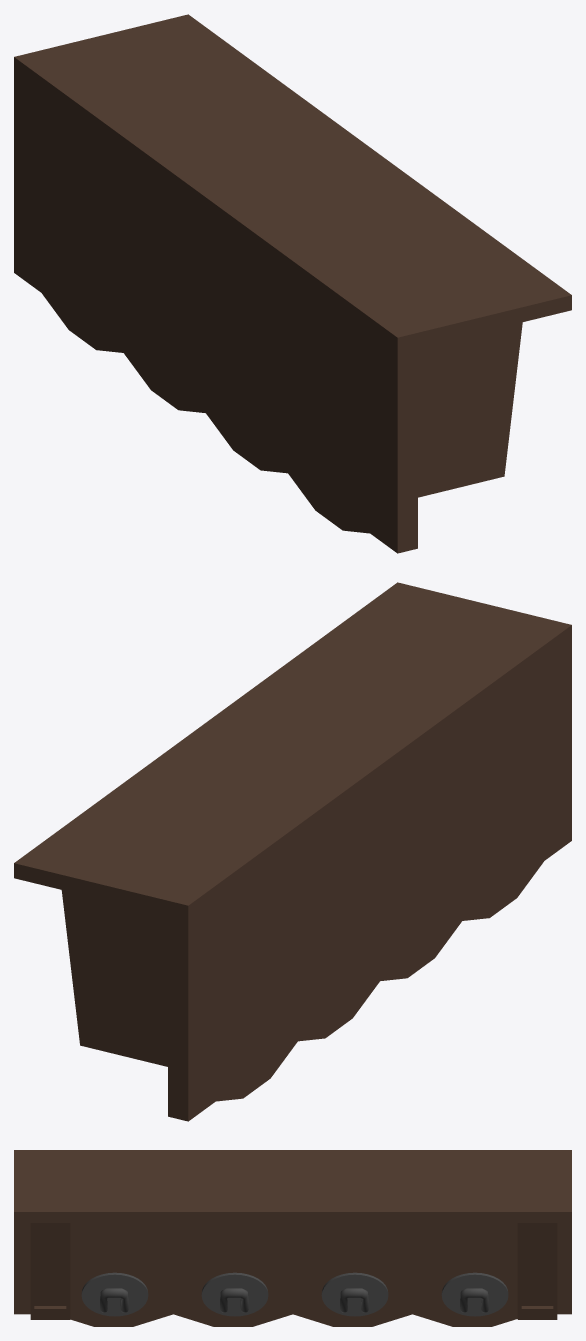
Rendered from S_Overcoat.fbx.
The picture shows the model from 3 angles, top to bottom: view 1: azimuth 30°, elevation 25°; view 2: azimuth 150°, elevation 25°; view 3: azimuth 270°, elevation 25°; orthographic projection. The views are drawn at different scales.
Visible parts, largest first — view 1: S_Overcoat; view 2: S_Overcoat; view 3: S_Overcoat.
Part boxes in pixels (x1,y1,x2,y2): S_Overcoat: [14, 14, 571, 553]; S_Overcoat: [14, 582, 571, 1121]; S_Overcoat: [14, 1150, 571, 1326].
Size of the model in its own units: 30 by 38.31 by 114.
